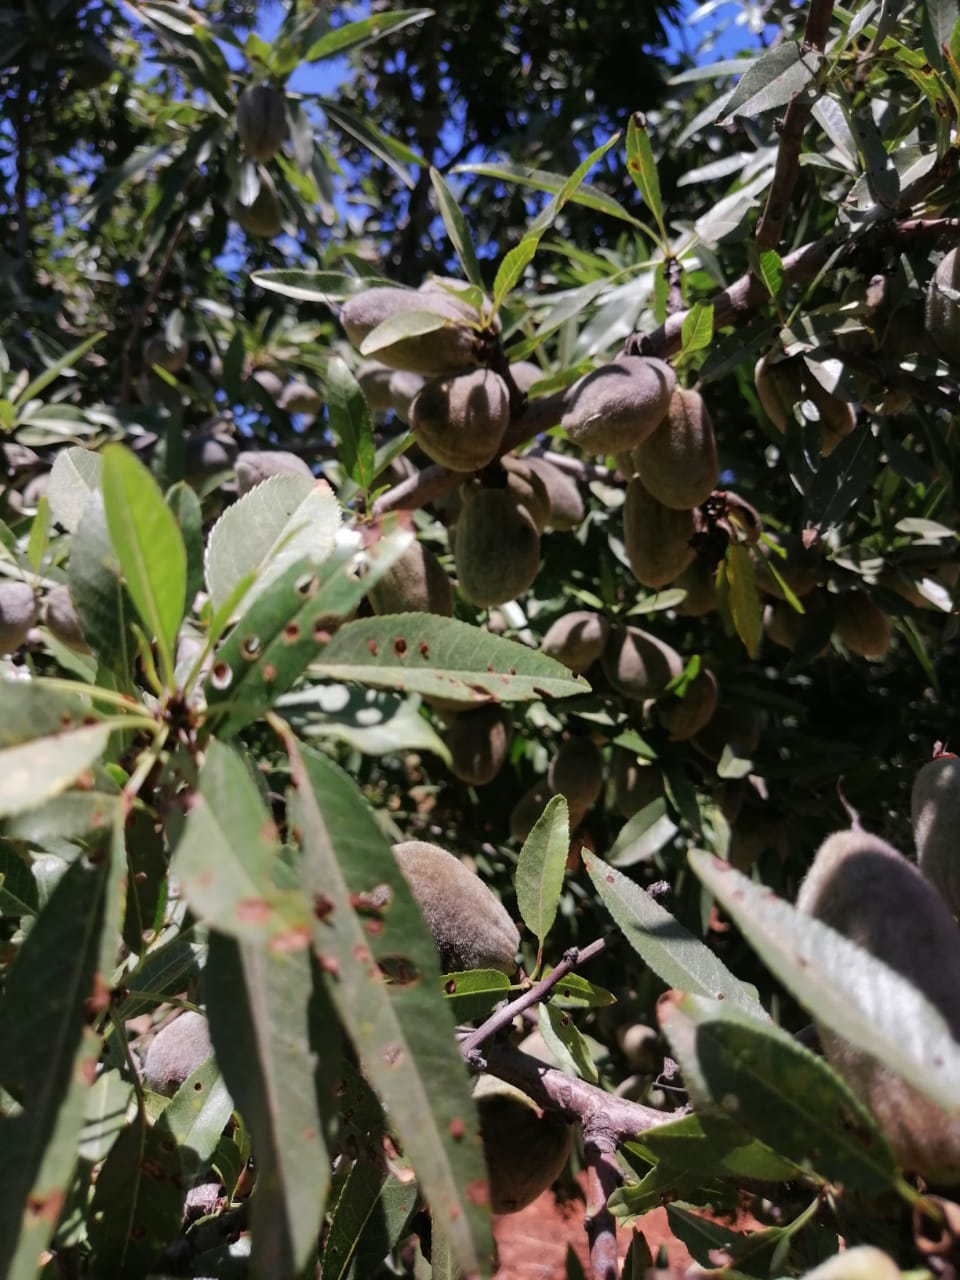coryneum: (284, 729, 498, 1280), (580, 844, 772, 1019), (168, 737, 314, 950), (303, 611, 594, 703)
